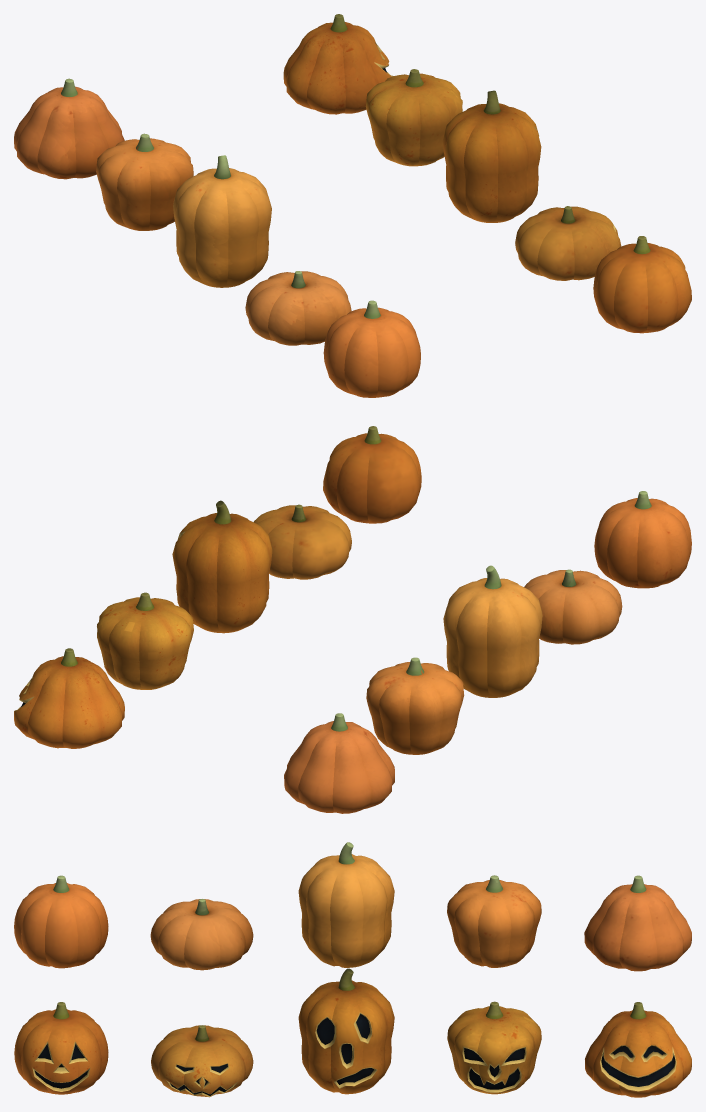
File: stylised_pumpkins.glb
3 renders of one model, top to bottom at view 1: azimuth 30°, elevation 25°; view 2: azimuth 150°, elevation 25°; view 3: azimuth 270°, elevation 25°, orthographic. The views are drawn at different scales.
Visible parts, largest first — view 1: Pumpkin03, Pumpkin03_Carved, Pumpkin05, Pumpkin05_Carved, Pumpkin01_Carved, Pumpkin01, Pumpkin04, Pumpkin04_Carved, Pumpkin02, Pumpkin02_Carved; view 2: Pumpkin03_Carved, Pumpkin03, Pumpkin05, Pumpkin05_Carved, Pumpkin04, Pumpkin04_Carved, Pumpkin01_Carved, Pumpkin01, Pumpkin02, Pumpkin02_Carved; view 3: Pumpkin03_Carved, Pumpkin03, Pumpkin05_Carved, Pumpkin05, Pumpkin04_Carved, Pumpkin04, Pumpkin01, Pumpkin01_Carved, Pumpkin02_Carved, Pumpkin02.
Part boxes in pixels (box(x1,y1,x2,y2)): Pumpkin03: box(173, 155, 271, 287); Pumpkin03_Carved: box(442, 90, 541, 222); Pumpkin05: box(14, 78, 124, 179); Pumpkin05_Carved: box(283, 14, 393, 114); Pumpkin01_Carved: box(593, 236, 691, 333); Pumpkin01: box(323, 300, 420, 397); Pumpkin04: box(96, 133, 193, 230); Pumpkin04_Carved: box(365, 69, 462, 166); Pumpkin02: box(245, 271, 351, 345); Pumpkin02_Carved: box(515, 206, 621, 280); Pumpkin03_Carved: box(172, 500, 272, 633); Pumpkin03: box(443, 565, 542, 697); Pumpkin05: box(284, 713, 394, 813); Pumpkin05_Carved: box(14, 648, 124, 748); Pumpkin04: box(366, 657, 464, 754); Pumpkin04_Carved: box(97, 592, 193, 689); Pumpkin01_Carved: box(323, 426, 421, 523); Pumpkin01: box(594, 491, 691, 588); Pumpkin02: box(524, 569, 622, 644); Pumpkin02_Carved: box(254, 504, 351, 579); Pumpkin03_Carved: box(298, 968, 394, 1094); Pumpkin03: box(298, 842, 394, 967); Pumpkin05_Carved: box(585, 1002, 691, 1097); Pumpkin05: box(584, 875, 691, 971); Pumpkin04_Carved: box(447, 1001, 541, 1094); Pumpkin04: box(447, 875, 541, 967); Pumpkin01: box(14, 875, 108, 968); Pumpkin01_Carved: box(14, 1002, 108, 1094); Pumpkin02_Carved: box(151, 1025, 253, 1097); Pumpkin02: box(150, 899, 253, 970).
Bounding box in the file's own units: 1004 × 325 × 1685.
2 materials, 2 textured.
